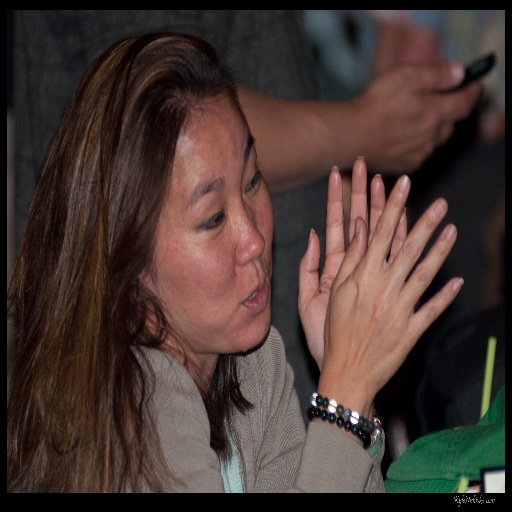hand: (296, 153, 407, 376), (355, 62, 480, 174)
